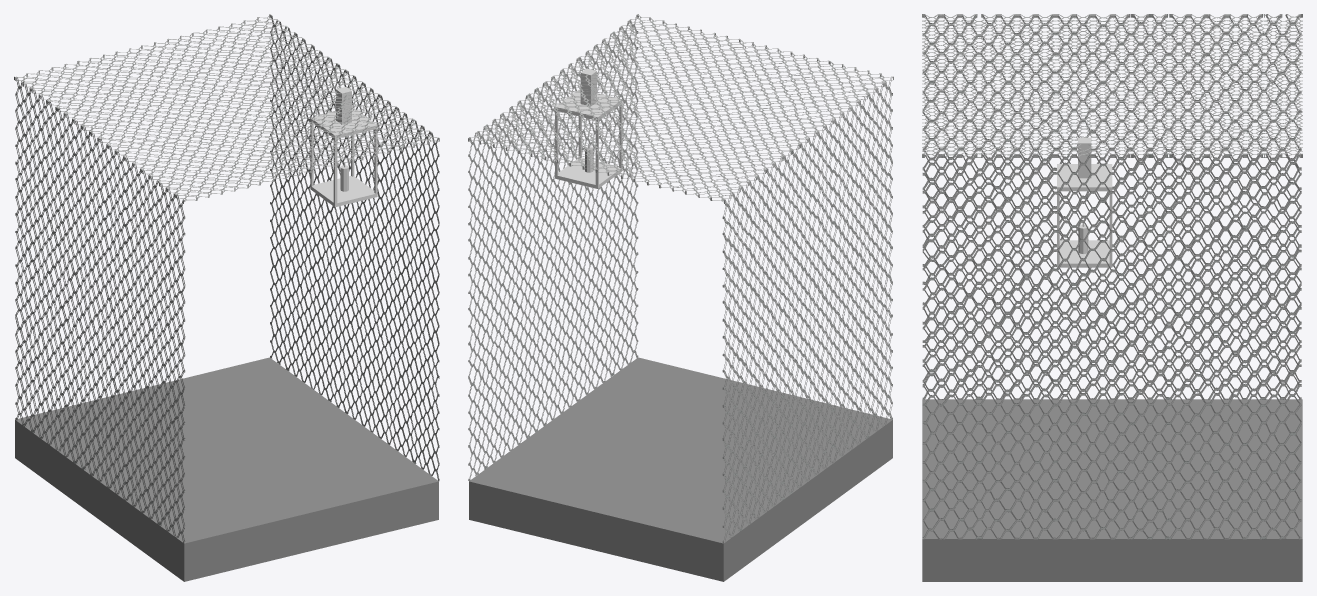
The model's file is chainlink catwalknormalsfix+textures (1).fbx.
3 views of the same model, side by side, from view 1: azimuth 30°, elevation 25°; view 2: azimuth 150°, elevation 25°; view 3: azimuth 270°, elevation 25° (orthographic). The views are drawn at different scales.
Visible parts, largest first — view 1: Cube, Plane.001, Plane.002, Plane, Cube.001; view 2: Cube, Plane.001, Plane, Plane.002, Cube.001; view 3: Cube, Plane, Plane.001, Plane.002, Cube.001.
Boxes of the visible parts, <box> form: Cube: <box>15,357,438,581</box>; Plane.001: <box>15,76,185,543</box>; Plane.002: <box>14,14,439,203</box>; Plane: <box>270,15,439,481</box>; Cube.001: <box>310,87,377,207</box>; Cube: <box>469,357,892,581</box>; Plane.001: <box>722,76,892,543</box>; Plane: <box>468,15,638,480</box>; Plane.002: <box>468,14,893,203</box>; Cube.001: <box>555,68,622,188</box>; Cube: <box>922,399,1302,581</box>; Plane: <box>922,154,1301,539</box>; Plane.001: <box>922,14,1301,399</box>; Plane.002: <box>922,14,1302,157</box>; Cube.001: <box>1057,137,1112,267</box>.
Bounding box in the file's own units: 349 × 498 × 401.
2 materials, 1 textured.
